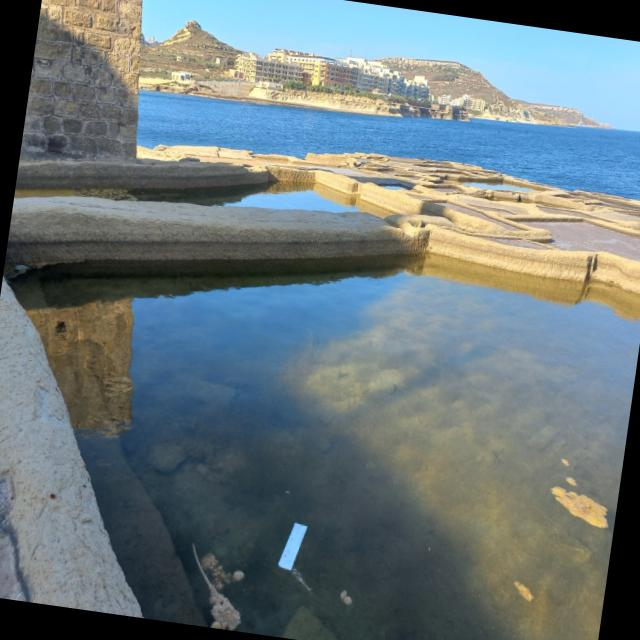Other plastic: (277, 521, 308, 572)
